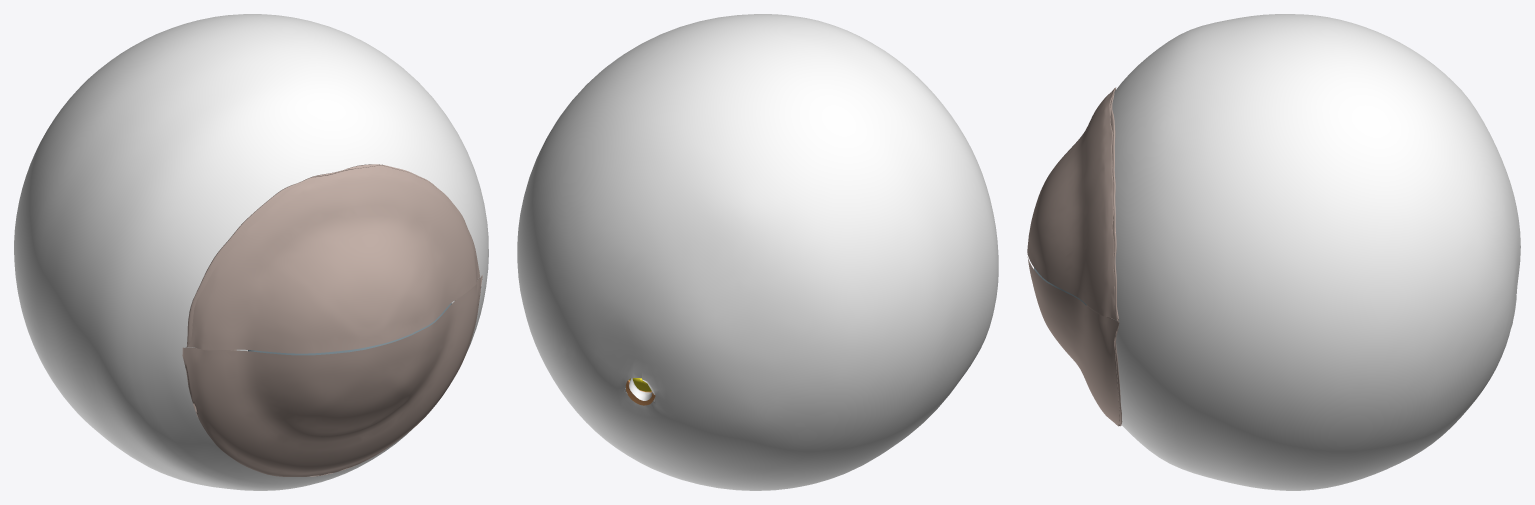
The model's file is eye.glb.
3 views of the same model, side by side, from view 1: azimuth 30°, elevation 25°; view 2: azimuth 150°, elevation 25°; view 3: azimuth 270°, elevation 25° (orthographic).
Parts seen in each view (by area): view 1: VH_M_sclera_L, VH_M_bulbar_conjunctiva_L; view 2: VH_M_sclera_L; view 3: VH_M_sclera_L, VH_M_bulbar_conjunctiva_L.
Part boxes in pixels (<box>): VH_M_sclera_L: <box>14,14,488,490</box>; VH_M_bulbar_conjunctiva_L: <box>182,164,482,476</box>; VH_M_sclera_L: <box>517,14,998,490</box>; VH_M_sclera_L: <box>1112,14,1520,490</box>; VH_M_bulbar_conjunctiva_L: <box>1027,87,1122,426</box>.
Bounding box in the file's own units: 0.0245 × 0.0245 × 0.0254.
4 materials, 4 textured.
